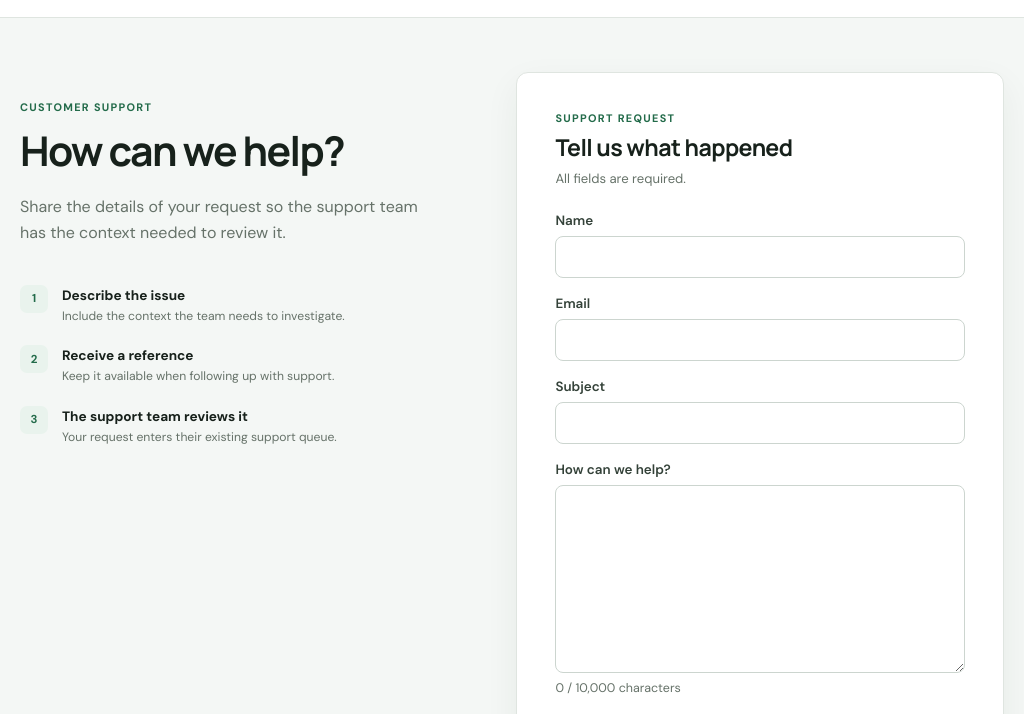
Test: safe backend errors are shown and entered form values remain available
expect the heading "How can we help?" is shown: met, box [20,122,344,178]
In the field labelled "Name": (760, 257) [555,236,965,278], type "Rahul Sharma"
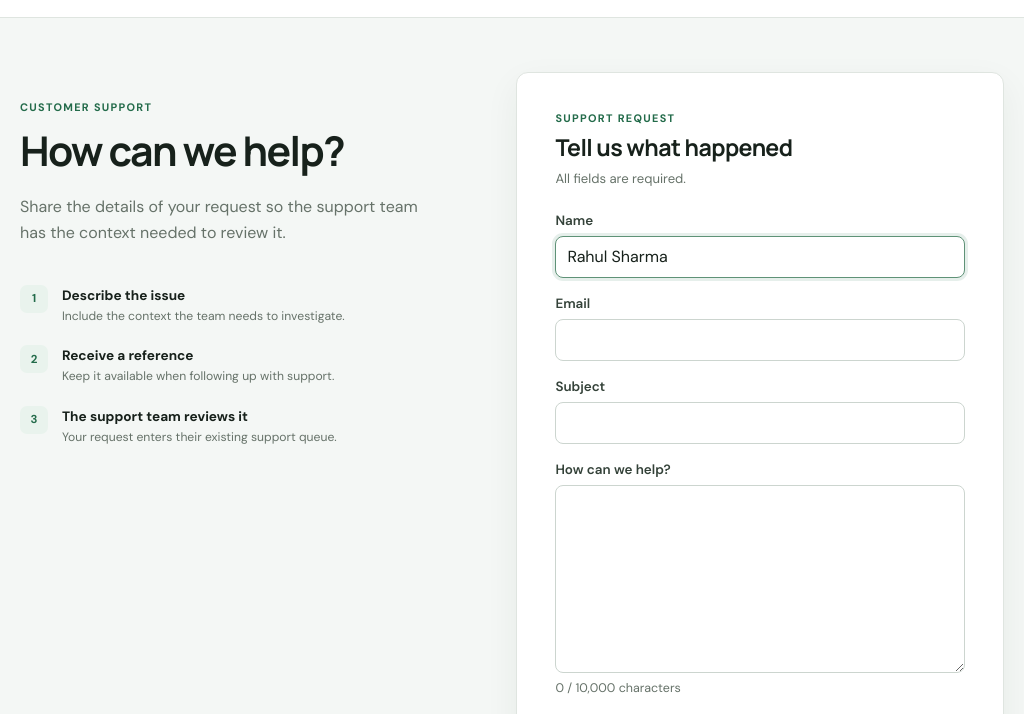
In the field labelled "Email": (760, 340) [555,319,965,361], type "rahul@example.com"
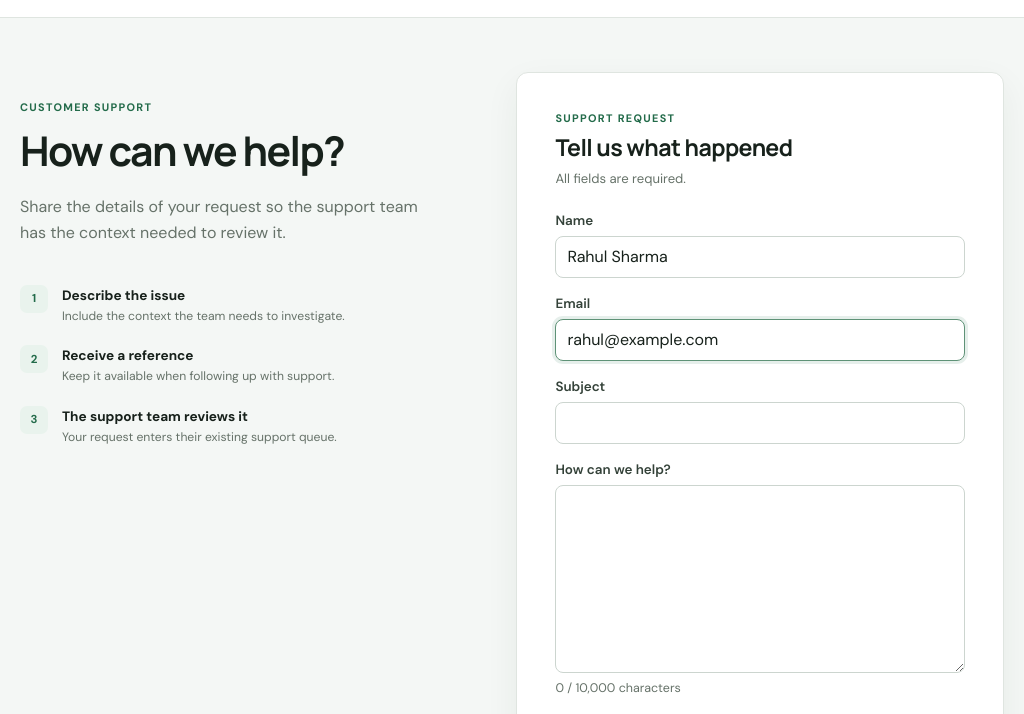
In the field labelled "Subject": (760, 423) [555,402,965,444], type "Refund not received"
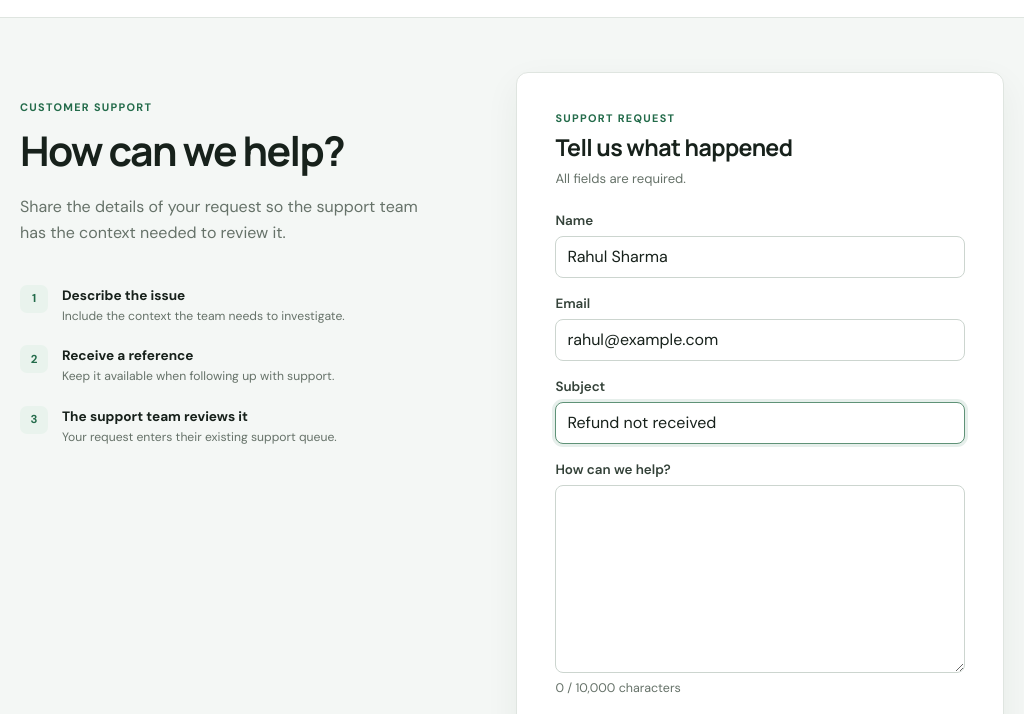
In the text box labelled "How can we help?": (760, 579) [555,485,965,673], type "I returned my order 10 days ago but still haven't received my refund."
(page scrolled)
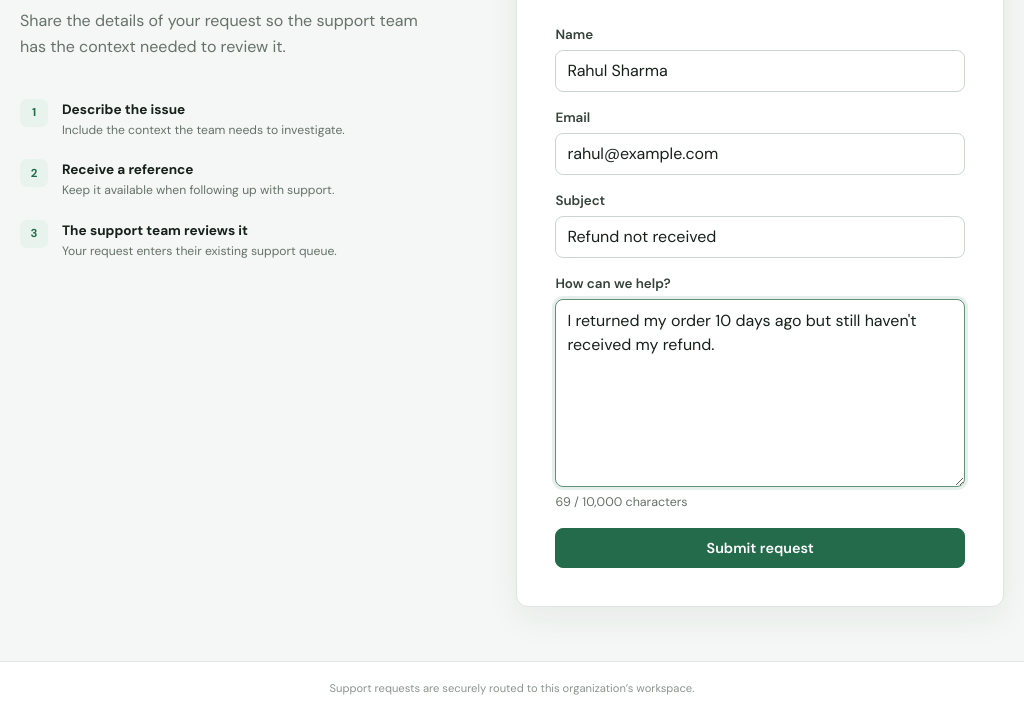
Click the button "Submit request": (760, 548) [555,528,965,568]
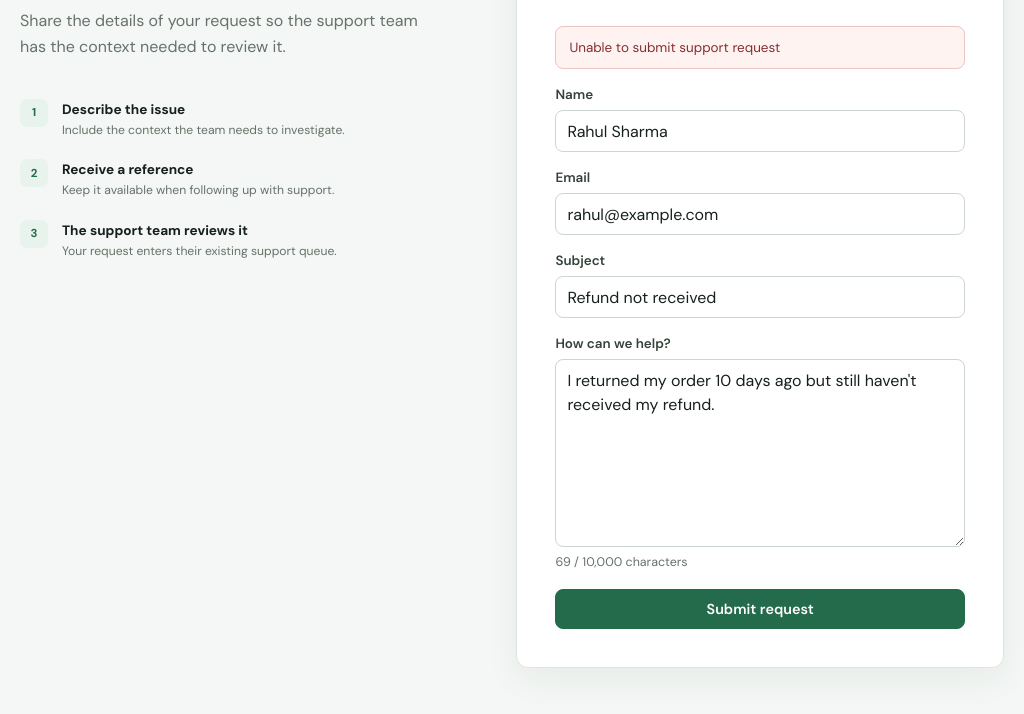
expect the button "Submit request" is enabled: met, box [555,589,965,629]
expect the message reads "Unable to submit support request": met, box [569,39,780,56]
